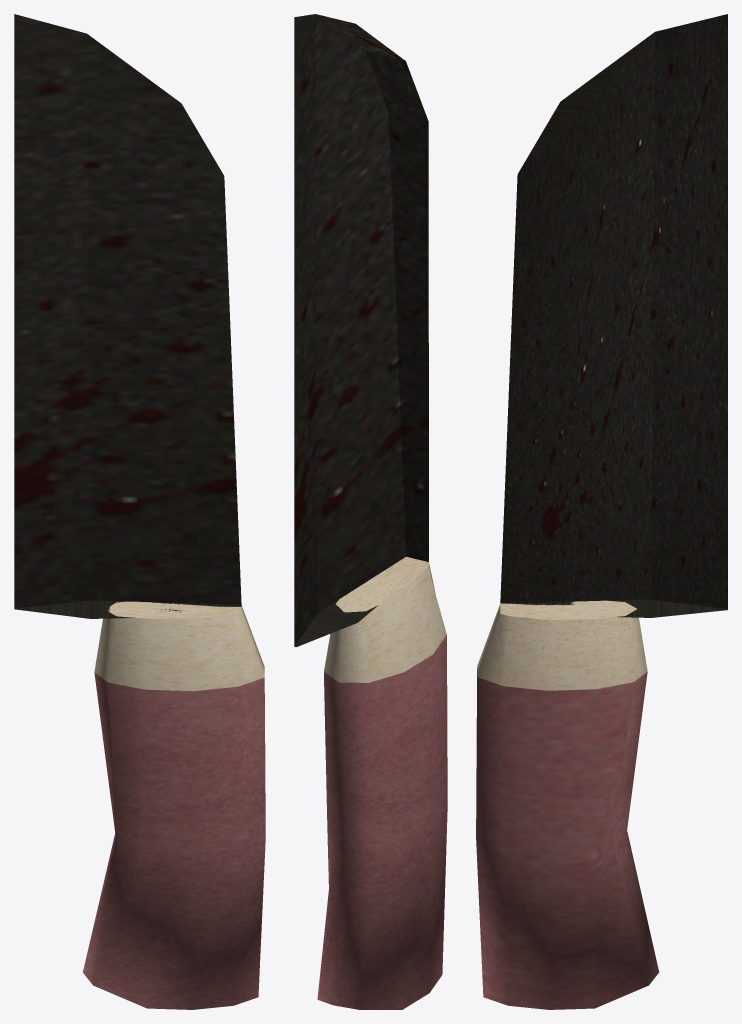
File: Cuchillo.fbx
The picture shows the model from 3 angles, left to right: view 1: azimuth 90°, elevation 25°; view 2: azimuth 150°, elevation 25°; view 3: azimuth 270°, elevation 25°; orthographic projection. The views are drawn at different scales.
Visible parts, largest first — view 1: Cylinder; view 2: Cylinder; view 3: Cylinder.
Boxes of the visible parts, x1,y1,x2,y2 form: Cylinder: (14, 14, 265, 1009); Cylinder: (294, 14, 447, 1009); Cylinder: (476, 14, 727, 1009).
Size of the model in its own units: 81.12 by 960 by 223.
3 materials, 3 textured.
